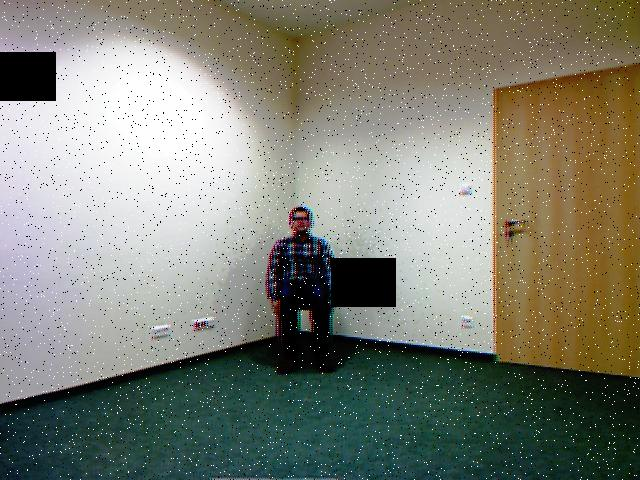sitting: (261, 196, 352, 387)
